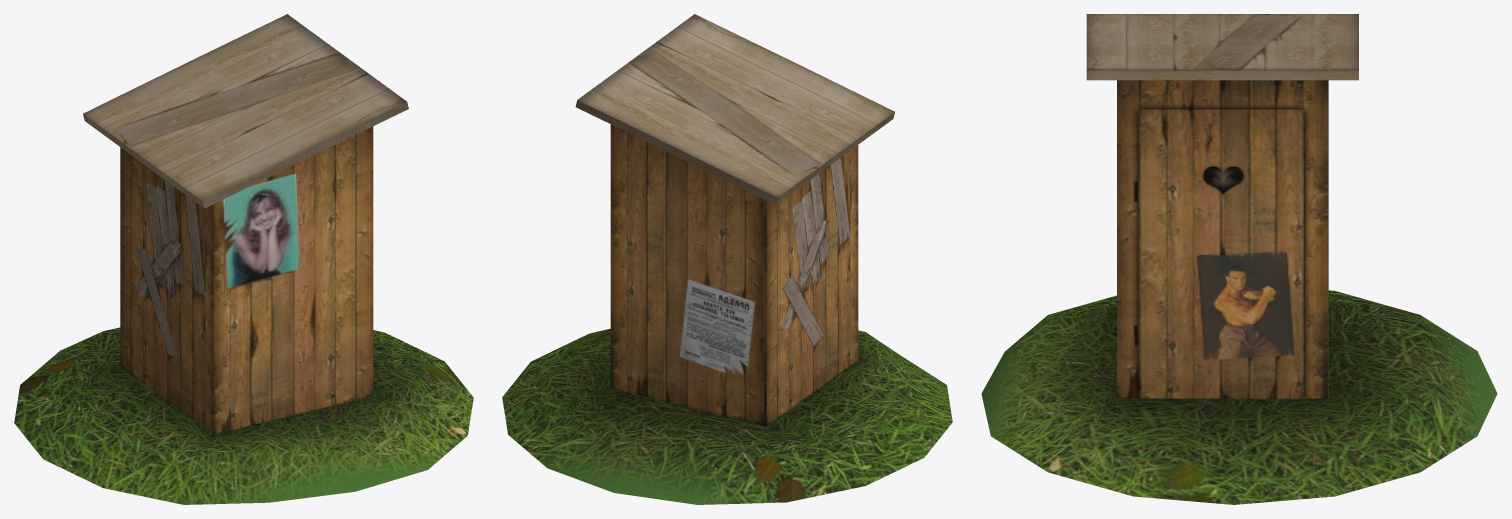
Rendered from sortir.dae.
3 views of the same model, side by side, from view 1: azimuth 30°, elevation 25°; view 2: azimuth 150°, elevation 25°; view 3: azimuth 270°, elevation 25° (orthographic). The views are drawn at different scales.
Parts seen in each view (by area): view 1: Box02, Sphere01_PIVOT; view 2: Box02, Sphere01_PIVOT; view 3: Box02, Sphere01_PIVOT.
Boxes of the visible parts, x1,y1,x2,y2 form: Box02: (83,14,408,434); Sphere01_PIVOT: (14,327,473,504); Box02: (575,14,894,426); Sphere01_PIVOT: (502,328,952,504); Box02: (1086,14,1358,398); Sphere01_PIVOT: (981,290,1497,504).
Size of the model in its own units: 184 by 181 by 146.
2 materials, 2 textured.
